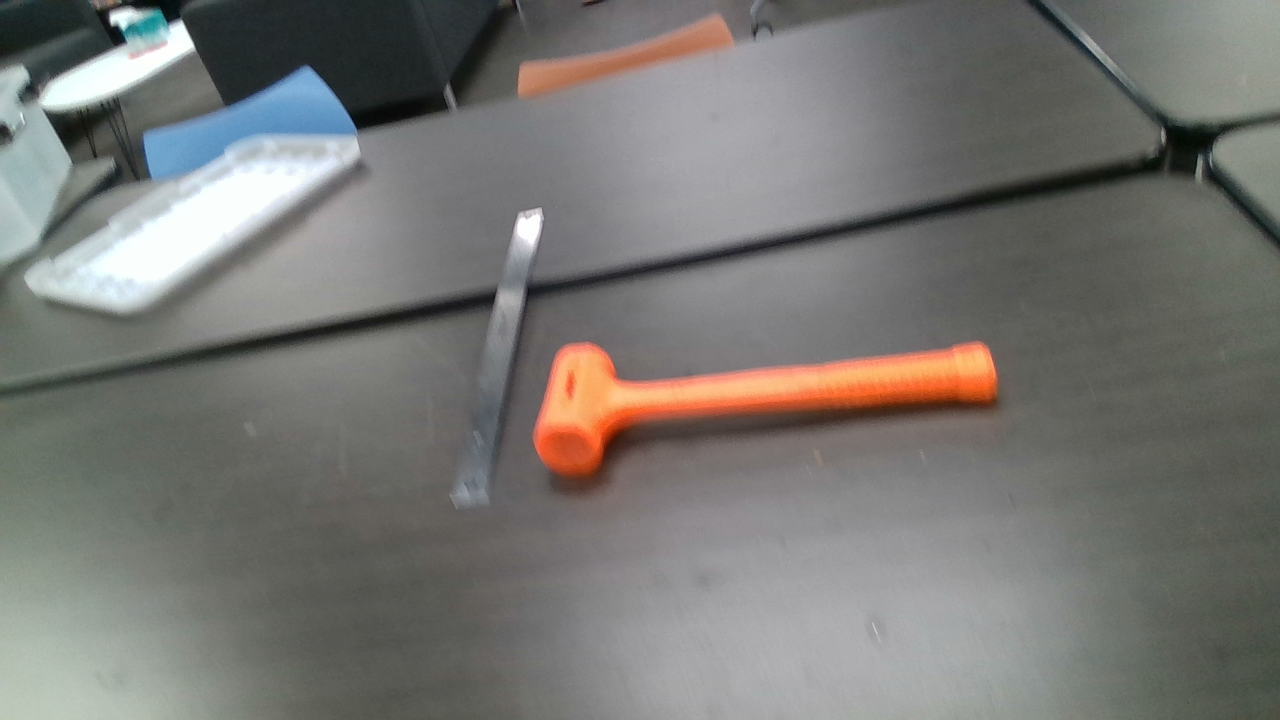Orange Hammer: (536, 339, 998, 477)
